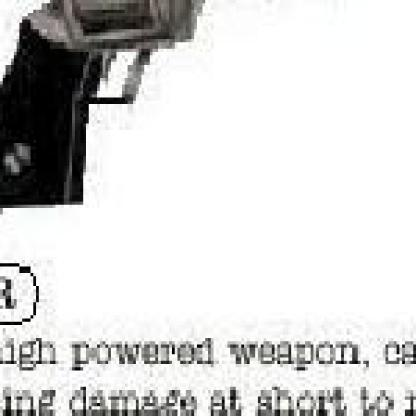gun: (0, 0, 403, 215)
